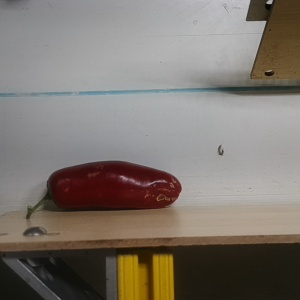Cut Point: (37, 171, 70, 211)
